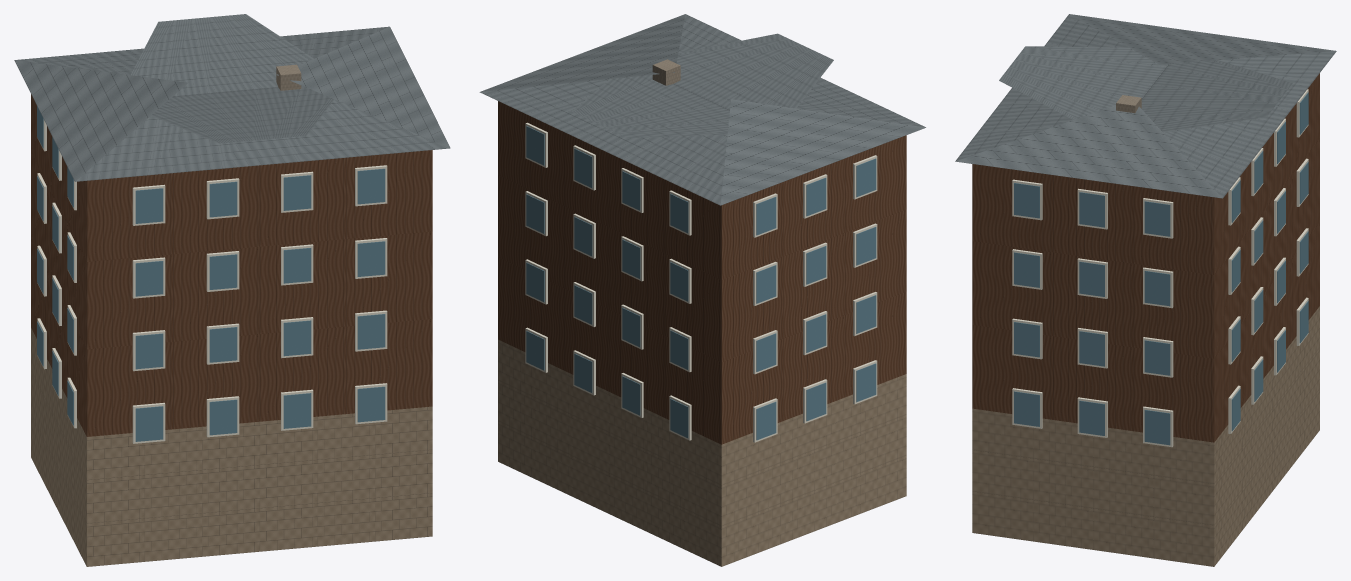
Rendered from core_0009.gltf.
The picture shows the model from 3 angles, left to right: view 1: azimuth 30°, elevation 25°; view 2: azimuth 150°, elevation 25°; view 3: azimuth 270°, elevation 25°; orthographic projection. The views are drawn at different scales.
Parts seen in each view (by area): view 1: core_0009; view 2: core_0009; view 3: core_0009.
Part boxes in pixels (x1,y1,x2,y2): core_0009: (14, 14, 450, 566); core_0009: (479, 14, 925, 566); core_0009: (955, 14, 1336, 566).
Size of the model in its own units: 16.23 by 16.55 by 14.19.
6 materials, 6 textured.
